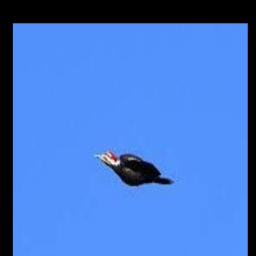Woodpecker: (95, 149, 173, 186)
